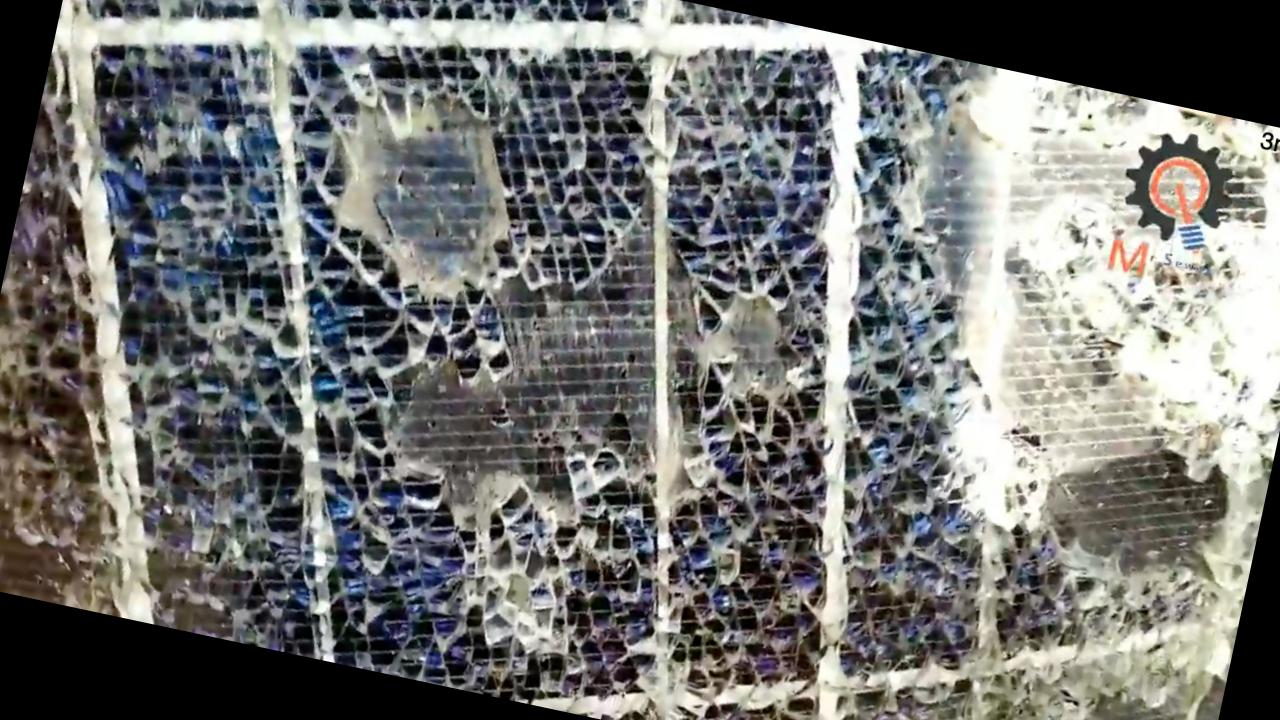Crack: (173, 30, 959, 719)
